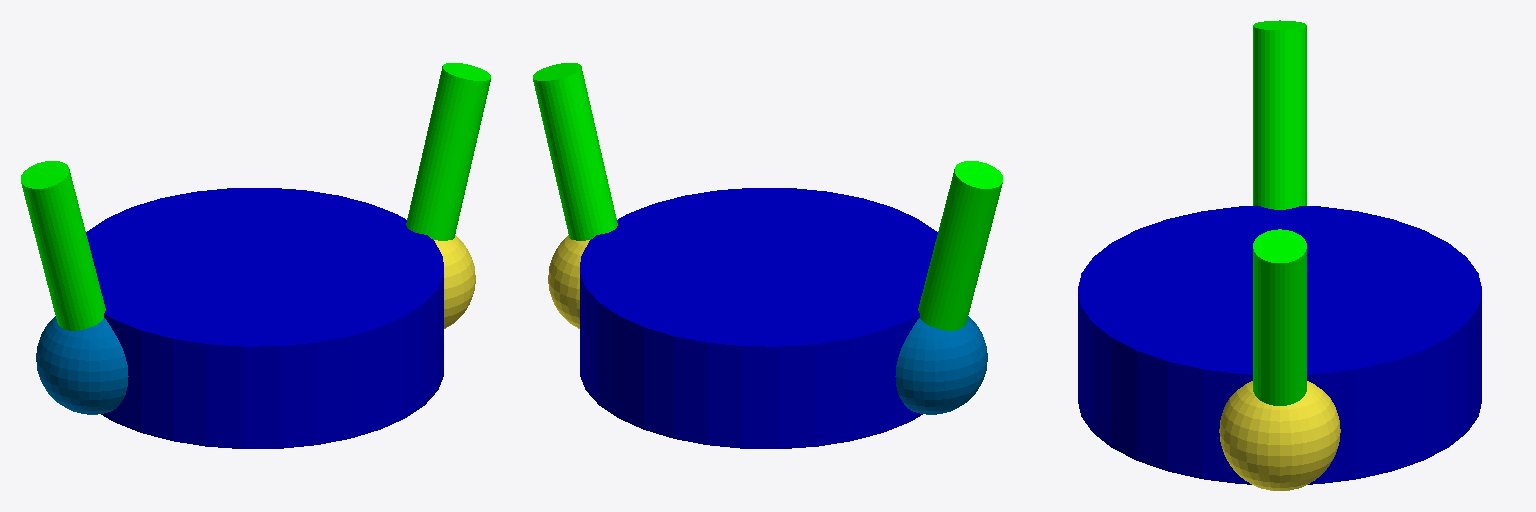
robot.urdf — gripper_2f_1j:
<?xml version='1.0' encoding='UTF-8'?>
<robot name="gripper_2f_1j">
  <link name="palm">
    <inertial>
      <origin xyz="0.0 0.0 0.0" rpy="0.0 -0.0 0.0"/>
      <mass value="1.0"/>
      <inertia ixx="1.0" ixy="0.0" ixz="0.0" iyy="1.0" iyz="0.0" izz="1.0"/>
    </inertial>
    <visual>
      <geometry>
        <cylinder radius="0.05" length="0.03"/>
      </geometry>
      <material name="blue"/>
      <origin xyz="0.0 0.0 0.0" rpy="0.0 -0.0 0.0"/>
    </visual>
    <collision>
      <geometry>
        <cylinder radius="0.05" length="0.03"/>
      </geometry>
      <origin xyz="0.0 0.0 0.0" rpy="0.0 0.0 0.0"/>
    </collision>
  </link>
  <link name="f11">
    <inertial>
      <origin xyz="0.0 0.0 0.0" rpy="0.0 -0.0 0.0"/>
      <mass value="1.0"/>
      <inertia ixx="1.0" ixy="0.0" ixz="0.0" iyy="1.0" iyz="0.0" izz="1.0"/>
    </inertial>
    <visual>
      <geometry>
        <cylinder radius="0.006658370860711039" length="0.05887117132597672"/>
      </geometry>
      <material name="green"/>
      <origin xyz="0.0 0.0 0.02943558566298836" rpy="0.0 -0.0 0.0"/>
    </visual>
    <collision>
      <geometry>
        <cylinder radius="0.006658370860711039" length="0.05887117132597672"/>
      </geometry>
      <origin xyz="0.0 0.0 0.05" rpy="0.0 0.0 0.0"/>
    </collision>
  </link>
  <link name="f21">
    <inertial>
      <origin xyz="0.0 0.0 0.0" rpy="0.0 -0.0 0.0"/>
      <mass value="1.0"/>
      <inertia ixx="1.0" ixy="0.0" ixz="0.0" iyy="1.0" iyz="0.0" izz="1.0"/>
    </inertial>
    <visual>
      <geometry>
        <cylinder radius="0.006658370860711039" length="0.05887117132597672"/>
      </geometry>
      <material name="green"/>
      <origin xyz="0.0 0.0 0.02943558566298836" rpy="0.0 -0.0 0.0"/>
    </visual>
    <collision>
      <geometry>
        <cylinder radius="0.006658370860711039" length="0.05887117132597672"/>
      </geometry>
      <origin xyz="0.0 0.0 0.05" rpy="0.0 0.0 0.0"/>
    </collision>
  </link>
  <link name="f11_base">
    <inertial>
      <origin xyz="0.0 0.0 0.0" rpy="0.0 -0.0 0.0"/>
      <mass value="1.0"/>
      <inertia ixx="1.0" ixy="0.0" ixz="0.0" iyy="1.0" iyz="0.0" izz="1.0"/>
    </inertial>
    <visual>
      <geometry>
        <sphere radius="0.015"/>
      </geometry>
      <origin xyz="0.0 0.0 0.0" rpy="0.0 -0.0 0.0"/>
    </visual>
  </link>
  <link name="f21_base">
    <inertial>
      <origin xyz="0.0 0.0 0.0" rpy="0.0 -0.0 0.0"/>
      <mass value="1.0"/>
      <inertia ixx="1.0" ixy="0.0" ixz="0.0" iyy="1.0" iyz="0.0" izz="1.0"/>
    </inertial>
    <visual>
      <geometry>
        <sphere radius="0.015"/>
      </geometry>
      <origin xyz="0.0 0.0 0.0" rpy="0.0 -0.0 0.0"/>
    </visual>
  </link>
  <joint name="f11_joint" type="revolute">
    <dynamics damping="100.0" friction="1.0"/>
    <limit effort="30.0" velocity="2.0" lower="-0.6" upper="0.25"/>
    <parent link="f11_base"/>
    <child link="f11"/>
    <axis xyz="0. 1. 0."/>
    <origin xyz="0.0 0.0 0.0" rpy="0.0 0.25 0.0"/>
  </joint>
  <joint name="f21_joint" type="revolute">
    <dynamics damping="100.0" friction="1.0"/>
    <limit effort="30.0" velocity="2.0" lower="-0.6" upper="0.25"/>
    <parent link="f21_base"/>
    <child link="f21"/>
    <axis xyz=" 0. -1.  0."/>
    <origin xyz="0.0 0.0 0.0" rpy="0.0 -0.25 0.0"/>
  </joint>
  <joint name="f11_base_joint" type="fixed">
    <parent link="palm"/>
    <child link="f11_base"/>
    <axis xyz="1. 0. 0."/>
    <origin xyz="0.05 0.0 0.0" rpy="0.0 0.0 0.0"/>
  </joint>
  <joint name="f21_base_joint" type="fixed">
    <parent link="palm"/>
    <child link="f21_base"/>
    <axis xyz="1. 0. 0."/>
    <origin xyz="-0.05 -0.0 0.0" rpy="0.0 0.0 0.0"/>
  </joint>
  <material name="blue">
    <color rgba="0.  0.  0.8 1. "/>
  </material>
  <material name="green">
    <color rgba="0. 1. 0. 1."/>
  </material>
</robot>

--- Facts derived from the render (not from the file) ---
The picture shows the robot from 3 angles, left to right: view 1: azimuth 30°, elevation 25°; view 2: azimuth 150°, elevation 25°; view 3: azimuth 270°, elevation 25°; orthographic projection.
Model gripper_2f_1j with 5 links and 4 joints (2 revolute, 2 fixed), rooted at palm, posed all joints at 0.
Links seen in each view (by area): view 1: palm, f11, f21, f21_base, f11_base; view 2: palm, f11, f21, f21_base, f11_base; view 3: palm, f21, f11_base, f11.
Link boxes in pixels (bbox=[...]): palm: bbox=[86, 188, 443, 448]; f11: bbox=[406, 63, 490, 240]; f21: bbox=[21, 161, 105, 330]; f21_base: bbox=[36, 316, 128, 414]; f11_base: bbox=[434, 235, 475, 328]; palm: bbox=[580, 188, 937, 448]; f11: bbox=[533, 63, 617, 240]; f21: bbox=[918, 161, 1002, 330]; f21_base: bbox=[895, 316, 987, 414]; f11_base: bbox=[548, 235, 589, 328]; palm: bbox=[1078, 206, 1481, 484]; f21: bbox=[1253, 20, 1306, 209]; f11_base: bbox=[1219, 381, 1340, 490]; f11: bbox=[1253, 229, 1306, 405].
Size in the robot's own frame: 0.142 by 0.1 by 0.0737 metres.
Geometry: primitives only (box / cylinder / sphere), no mesh files.